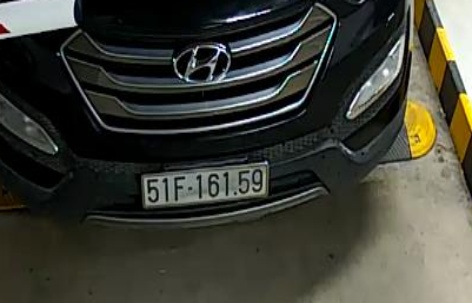plate: (139, 164, 273, 209)
